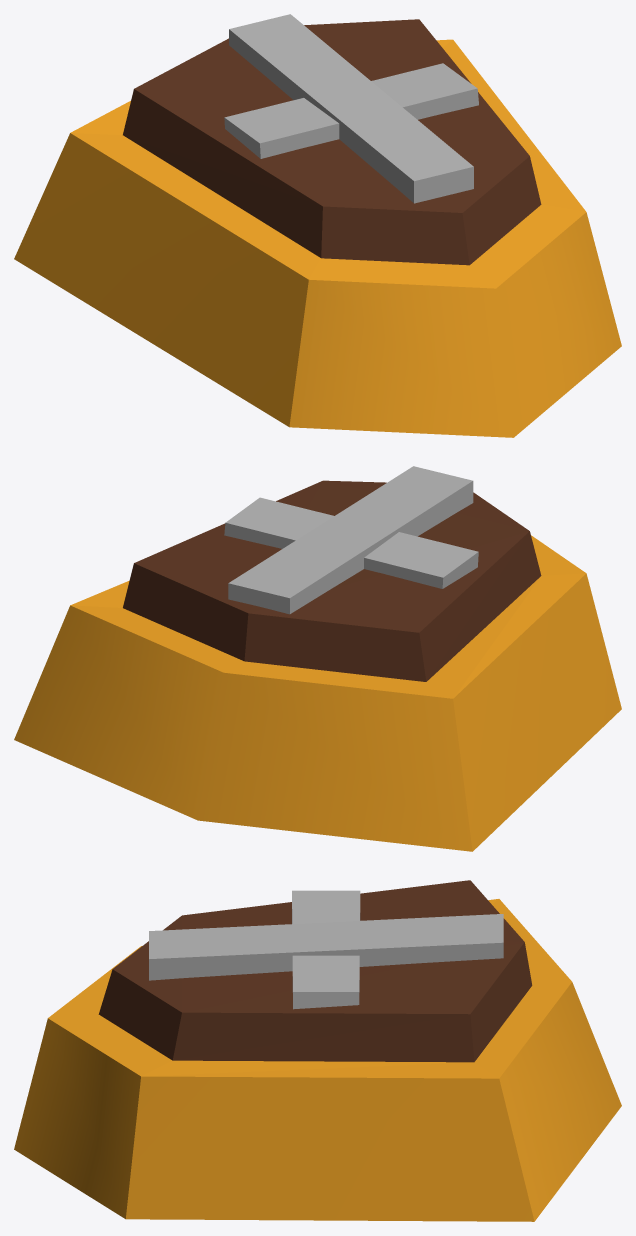
Rendered from Poleyn 05.FBX.
3 renders of one model, top to bottom at view 1: azimuth 30°, elevation 25°; view 2: azimuth 150°, elevation 25°; view 3: azimuth 270°, elevation 25°, orthographic. The views are drawn at different scales.
Parts seen in each view (by area): view 1: Poleyn 05; view 2: Poleyn 05; view 3: Poleyn 05.
Part boxes in pixels (left/top/right/bottom): Poleyn 05: left=14, top=14, right=621, bottom=437; Poleyn 05: left=14, top=466, right=621, bottom=851; Poleyn 05: left=14, top=880, right=621, bottom=1221.
Size of the model in its own units: 10.75 by 12.83 by 5.15.
1 material, 1 textured.
